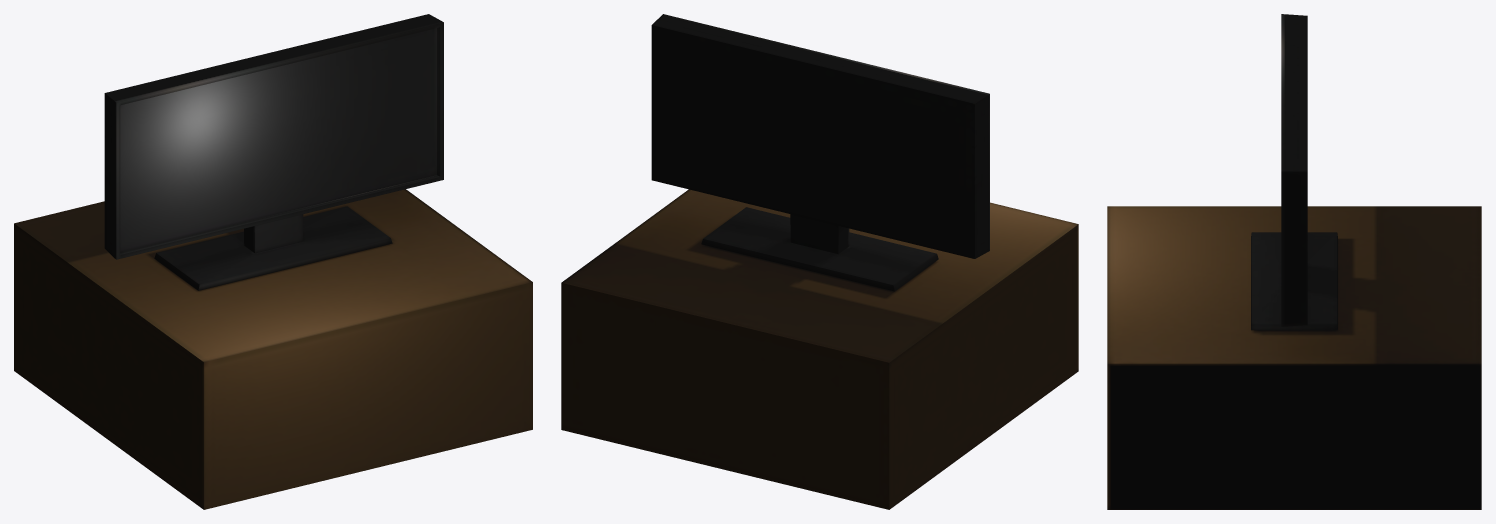
The picture shows the model from 3 angles, left to right: view 1: azimuth 30°, elevation 25°; view 2: azimuth 150°, elevation 25°; view 3: azimuth 270°, elevation 25°; orthographic projection.
Parts seen in each view (by area): view 1: tv_bake; view 2: tv_bake; view 3: tv_bake.
Boxes of the visible parts, box(x1,y1,x2,y2) form: tv_bake: box(14, 14, 532, 509); tv_bake: box(561, 14, 1078, 509); tv_bake: box(1107, 14, 1481, 509).
Size of the model in its own units: 1 by 0.9961 by 1.
Materials: 1 (1 with a texture image).
